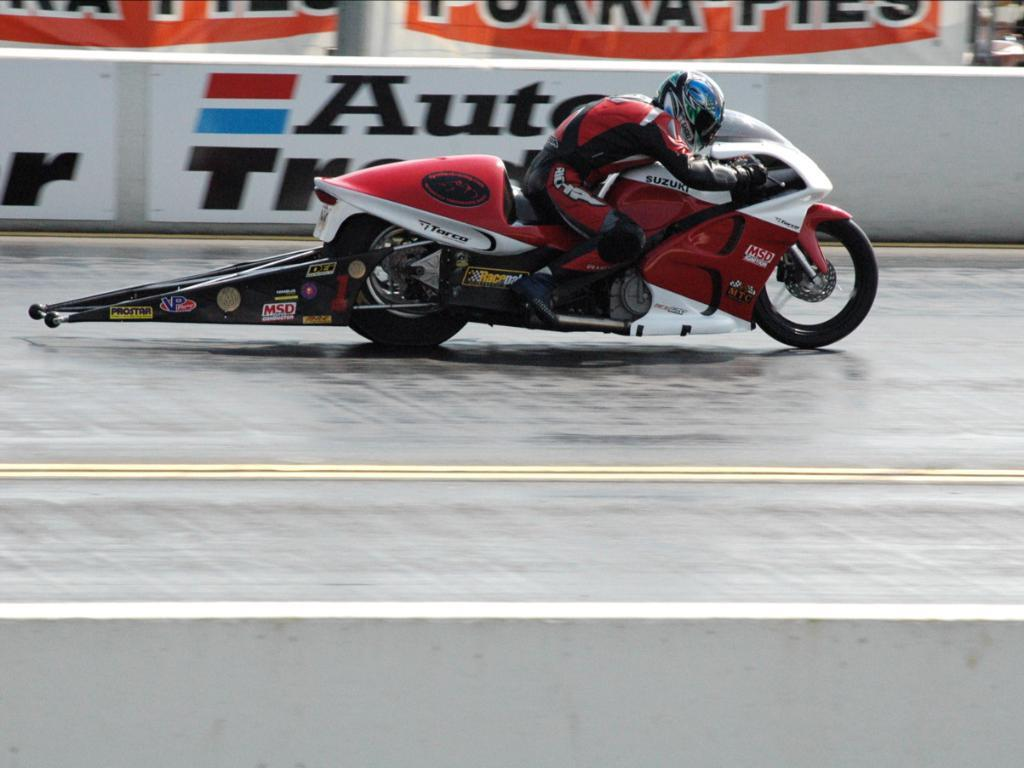helmet: (651, 70, 726, 154)
